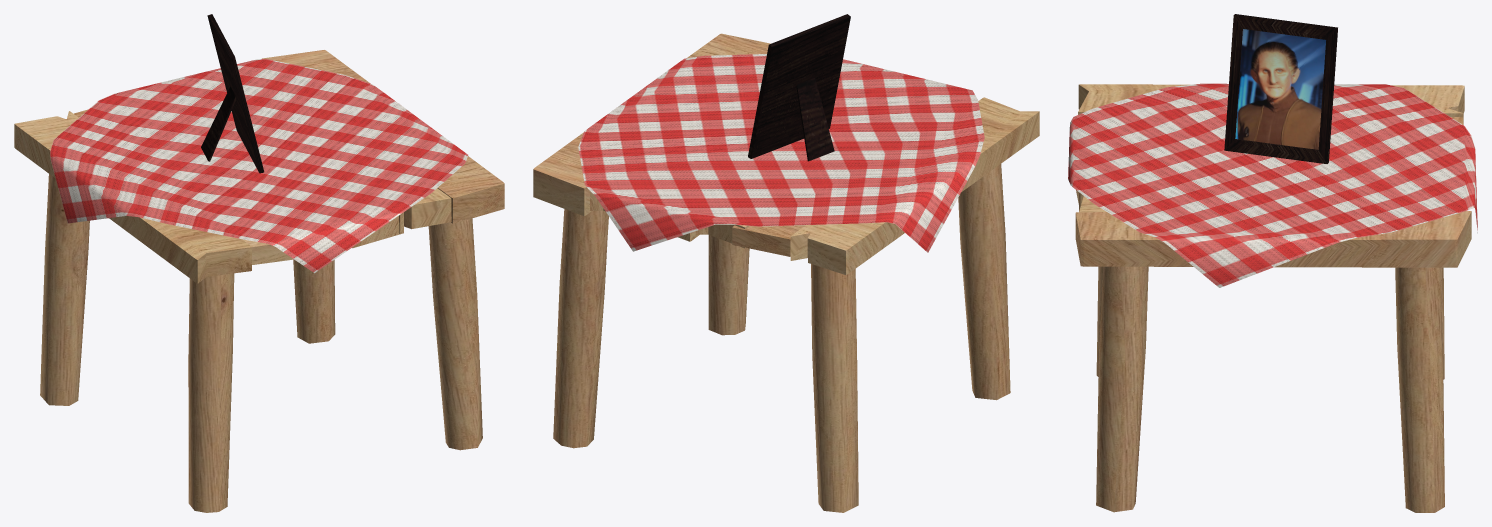
Rendered from table.fbx.
3 renders of one model, left to right at view 1: azimuth 30°, elevation 25°; view 2: azimuth 150°, elevation 25°; view 3: azimuth 270°, elevation 25°, orthographic. The views are drawn at different scales.
Visible parts, largest first — view 1: legncloth, tabletop, picture; view 2: legncloth, tabletop, picture; view 3: legncloth, picture, tabletop.
Part boxes in pixels (bbox=[...]): legncloth: bbox=[40, 59, 482, 512]; tabletop: bbox=[14, 50, 504, 283]; picture: bbox=[201, 14, 264, 173]; legncloth: bbox=[553, 54, 1010, 512]; tabletop: bbox=[533, 33, 1039, 274]; picture: bbox=[748, 14, 850, 161]; legncloth: bbox=[1068, 83, 1477, 512]; picture: bbox=[1224, 14, 1337, 163]; tabletop: bbox=[1075, 84, 1471, 267].
Size of what is drawn, in the model's own units: 560 by 642 by 588.
Materials: 2 (2 with a texture image).
